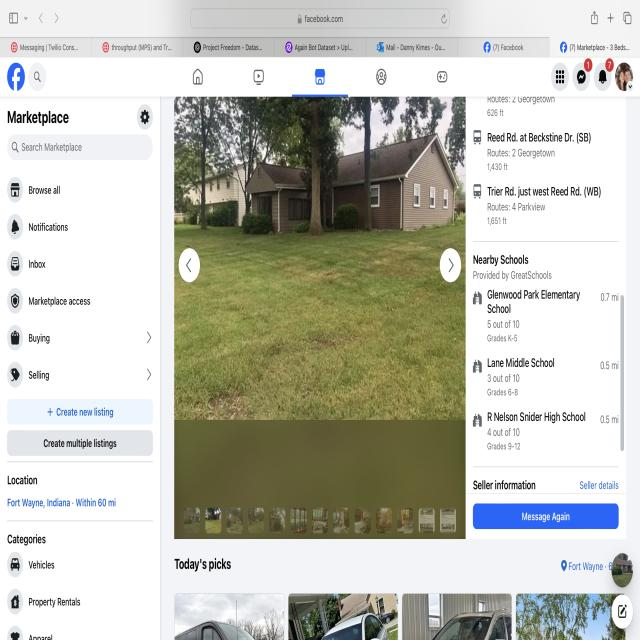message_button: (475, 508, 615, 528)
